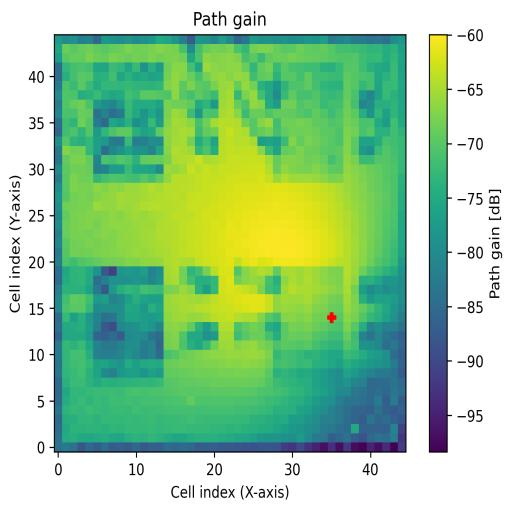Concrete: (274, 63, 344, 182)
Glass: (93, 62, 164, 184)
Metal: (274, 267, 344, 387)
Wood: (87, 267, 165, 387)
